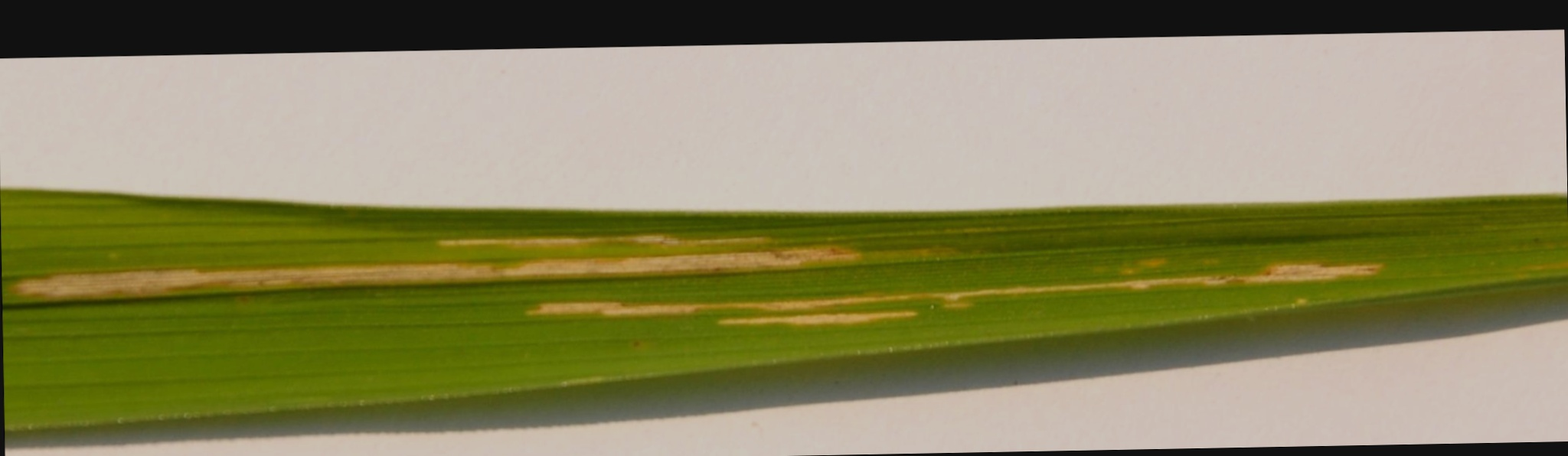Leaf_Blast: (24, 210, 1443, 350)
